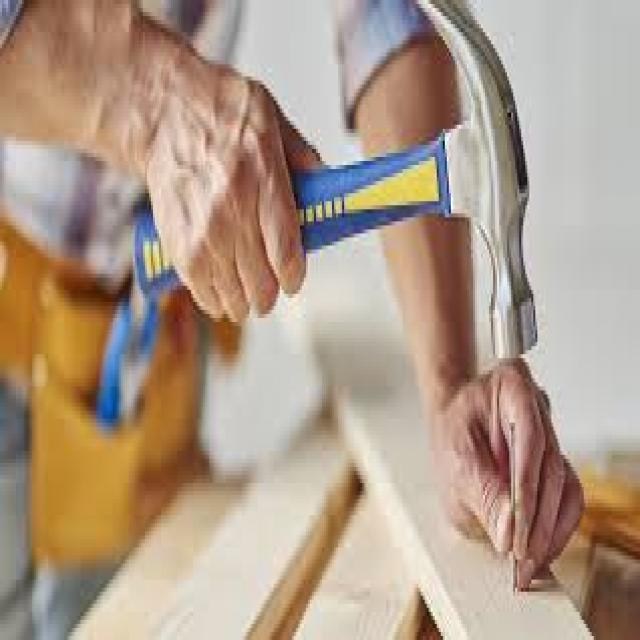hammer: (128, 0, 541, 370)
